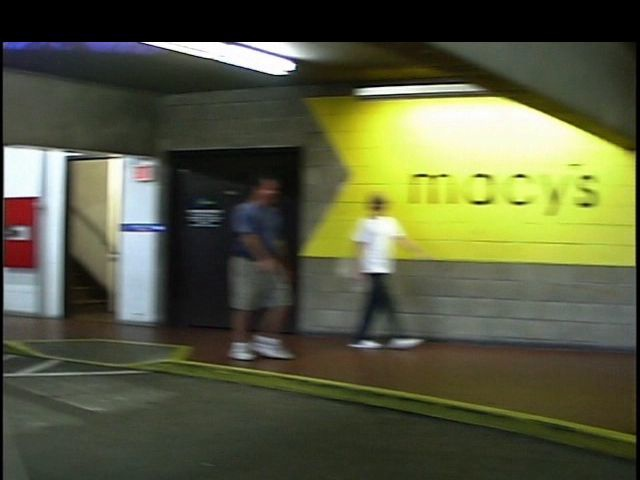person: (207, 170, 299, 365), (322, 186, 408, 361)
